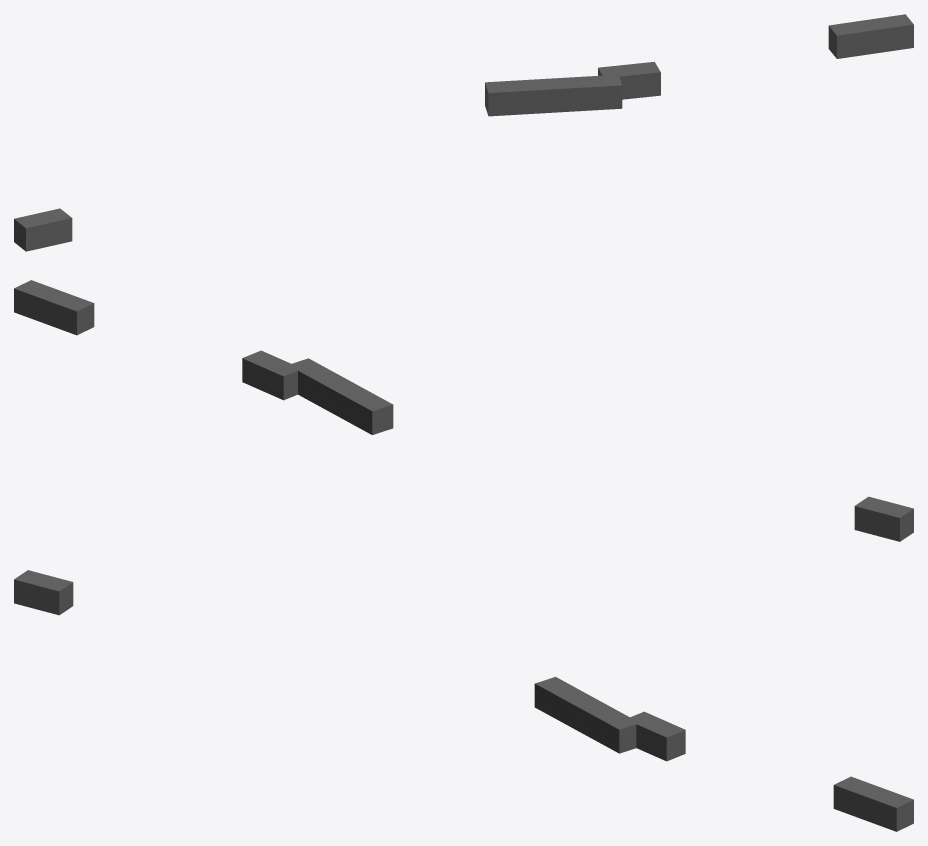
Rendered from prop_chalk-3.glb.
3 views of the same model, one above another, from view 1: azimuth 30°, elevation 25°; view 2: azimuth 150°, elevation 25°; view 3: azimuth 330°, elevation 25° (orthographic). The views are drawn at different scales.
Parts seen in each view (by area): view 1: prop_chalk-3; view 2: prop_chalk-3; view 3: prop_chalk-3.
Part boxes in pixels (box(x1,y1,x2,y2)): prop_chalk-3: box(14, 14, 913, 251); prop_chalk-3: box(14, 280, 913, 541); prop_chalk-3: box(14, 570, 913, 831).
Size of the model in its own units: 0.4731 by 0.012 by 0.0448.
Materials: 1 (1 with a texture image).
